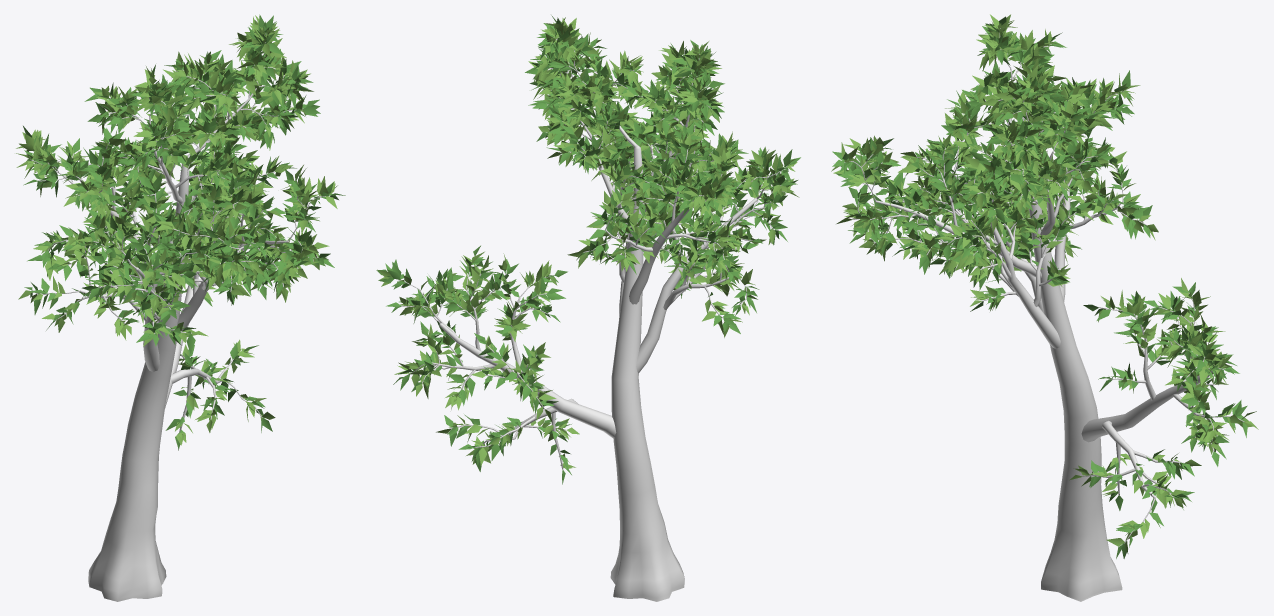
Rendered from Tree 2.fbx.
3 views of the same model, side by side, from view 1: azimuth 30°, elevation 25°; view 2: azimuth 150°, elevation 25°; view 3: azimuth 270°, elevation 25° (orthographic). The views are drawn at different scales.
Parts seen in each view (by area): view 1: PandaTree; view 2: PandaTree; view 3: PandaTree.
Part boxes in pixels (bbox=[...]): PandaTree: bbox=[16, 14, 345, 601]; PandaTree: bbox=[376, 15, 800, 601]; PandaTree: bbox=[831, 14, 1258, 601].
Size of the model in its own units: 4.78 by 7.58 by 5.18.
